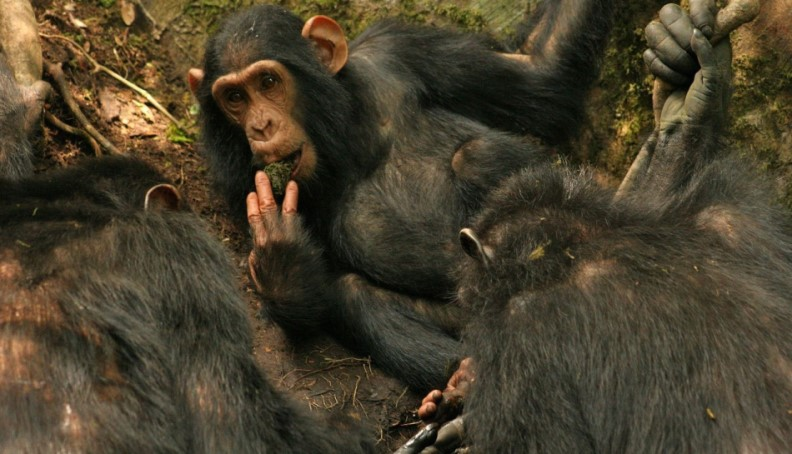Chimpanzee: (188, 6, 601, 296), (453, 181, 788, 454), (1, 150, 229, 454)
